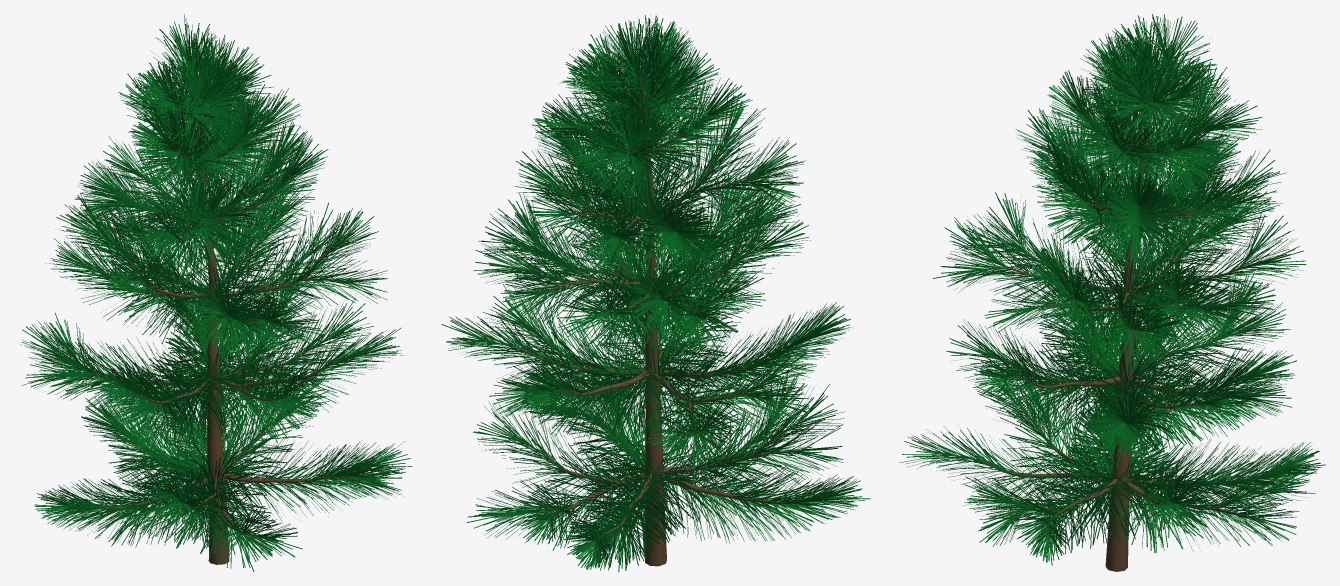
Rendered from mountain_tree.fbx.
3 views of the same model, side by side, from view 1: azimuth 30°, elevation 25°; view 2: azimuth 150°, elevation 25°; view 3: azimuth 270°, elevation 25° (orthographic). The views are drawn at different scales.
Visible parts, largest first — view 1: leaves; view 2: leaves; view 3: leaves.
Part boxes in pixels (<box>): leaves: <box>20,14,412,571</box>; leaves: <box>441,14,870,571</box>; leaves: <box>899,14,1325,571</box>.
Bounding box in the file's own units: 11.03 × 11.29 × 15.97.
